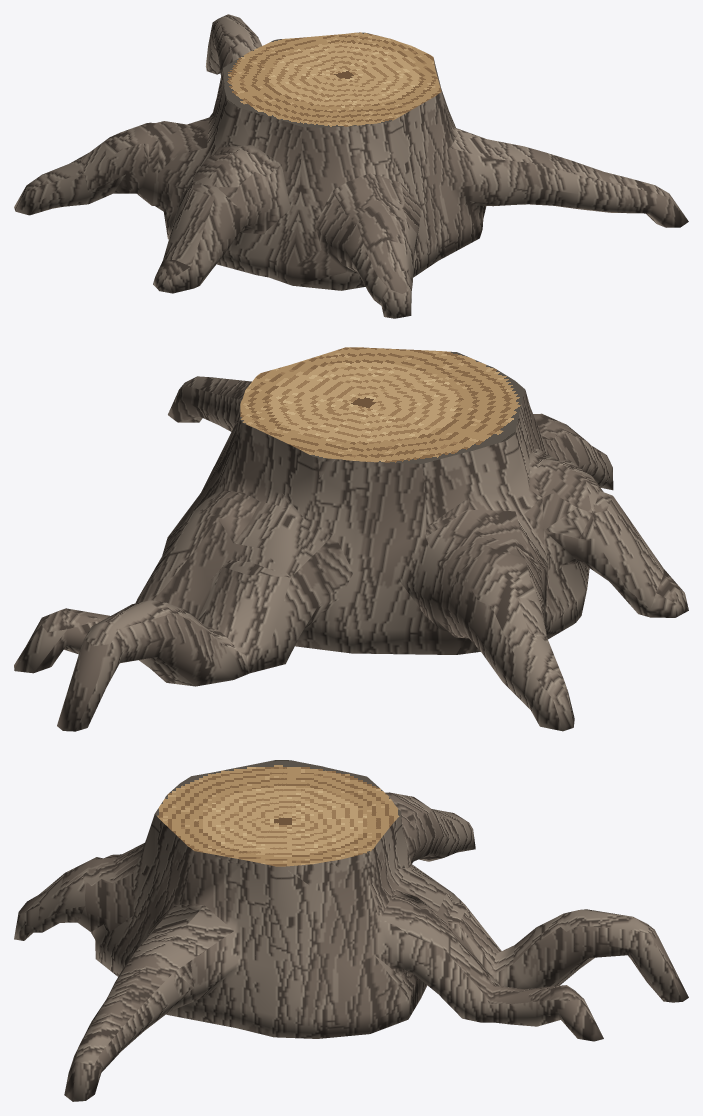
Rendered from environment_elm4_stump_v72.fbx.
The picture shows the model from 3 angles, top to bottom: view 1: azimuth 30°, elevation 25°; view 2: azimuth 150°, elevation 25°; view 3: azimuth 270°, elevation 25°; orthographic projection. The views are drawn at different scales.
Visible parts, largest first — view 1: environment_elm4_stump_v72; view 2: environment_elm4_stump_v72; view 3: environment_elm4_stump_v72.
Part boxes in pixels (box(x1,y1,x2,y2)): environment_elm4_stump_v72: box(14, 14, 688, 318); environment_elm4_stump_v72: box(14, 347, 688, 731); environment_elm4_stump_v72: box(14, 760, 688, 1101).
Size of the model in its own units: 438 by 115 by 473.
2 materials, 2 textured.
